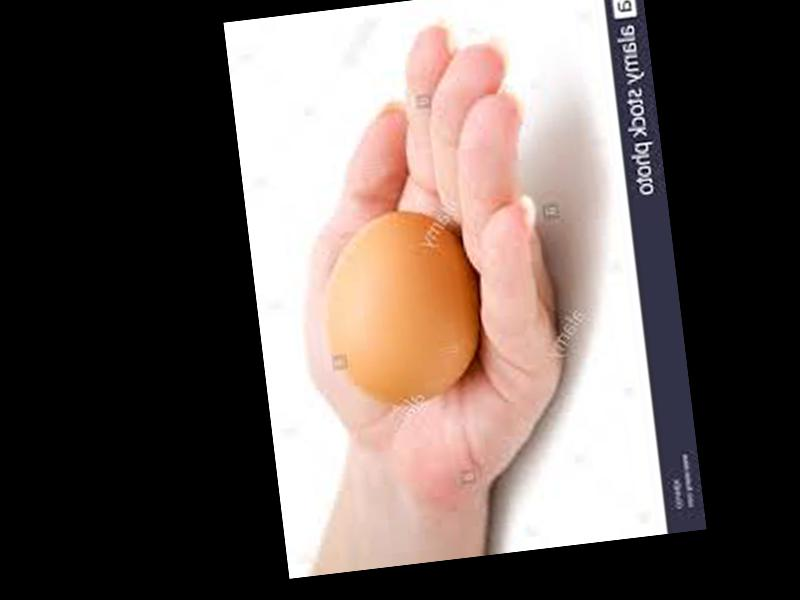Eggs: (311, 205, 488, 414)
